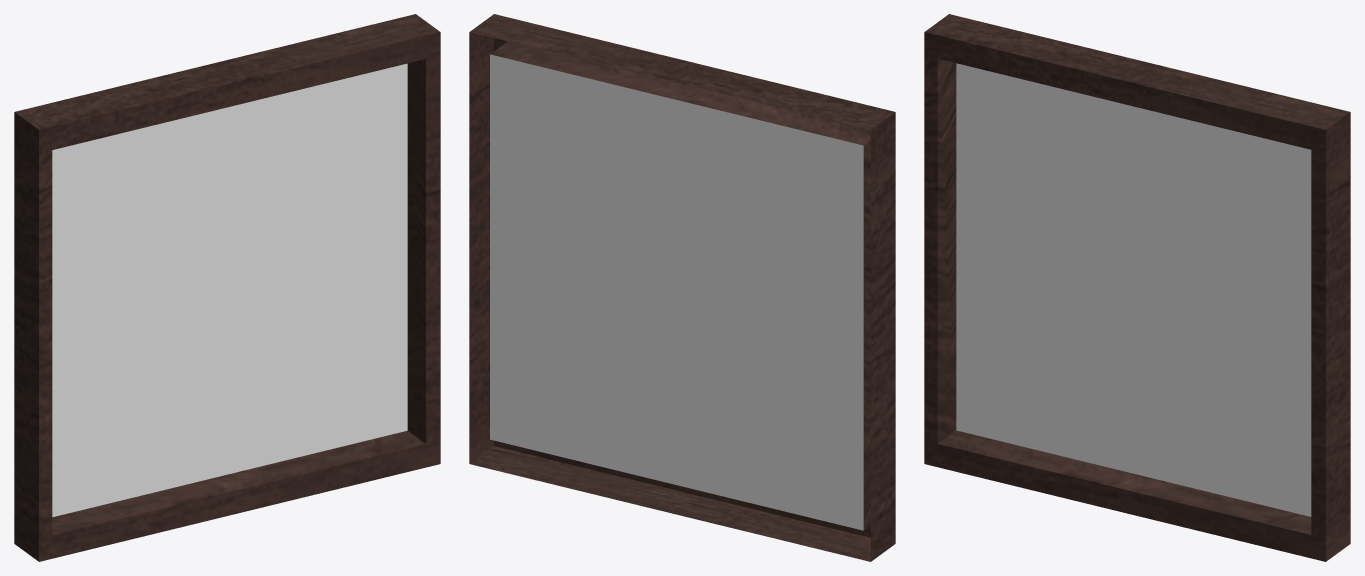
File: poster 4.fbx
3 renders of one model, left to right at view 1: azimuth 30°, elevation 25°; view 2: azimuth 150°, elevation 25°; view 3: azimuth 330°, elevation 25°, orthographic.
Parts seen in each view (by area): view 1: poster 4; view 2: poster 4; view 3: poster 4.
Part boxes in pixels (x1,y1,x2,y2): poster 4: (14, 14, 440, 561); poster 4: (469, 14, 895, 561); poster 4: (924, 14, 1350, 561).
Size of the model in its own units: 107 by 110 by 11.39.
